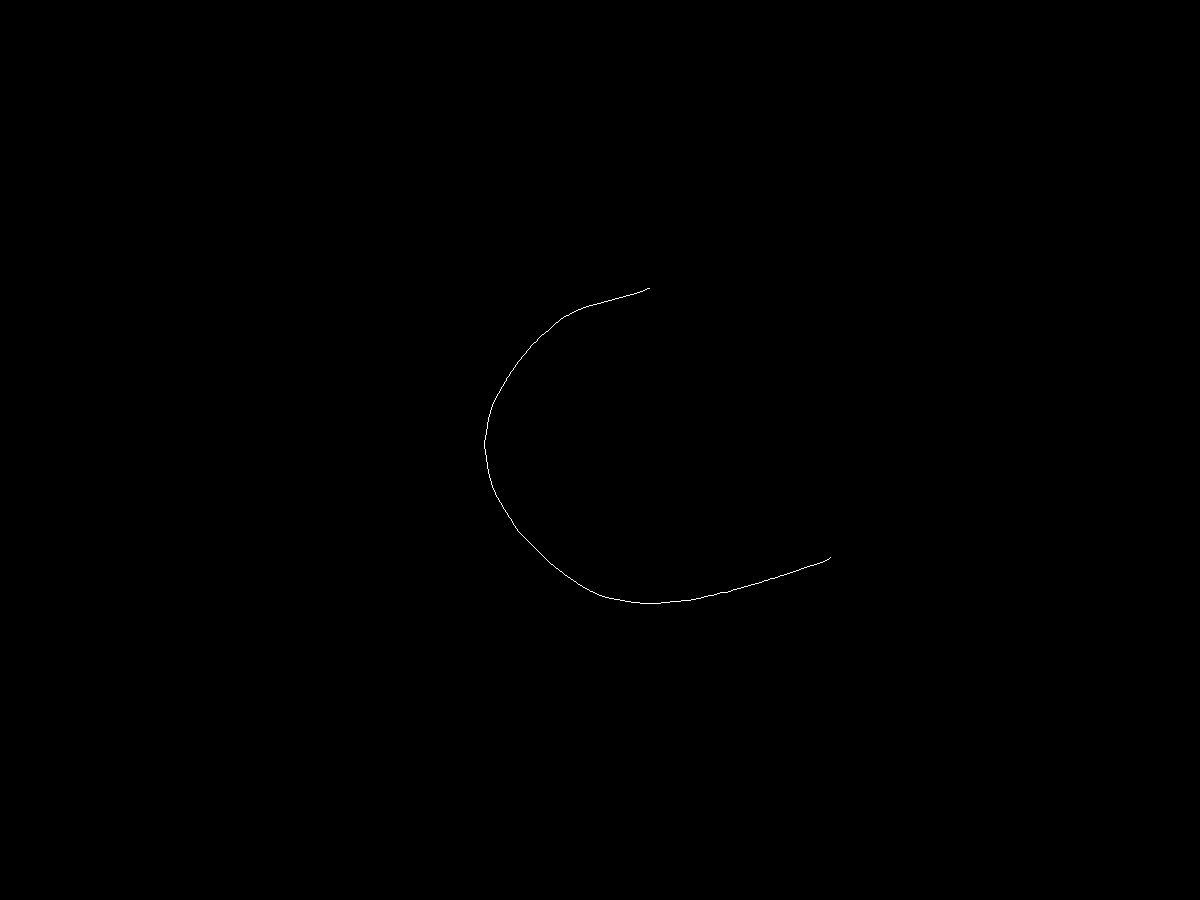dian1: (640, 276, 660, 304)
dian2: (824, 543, 847, 568)
